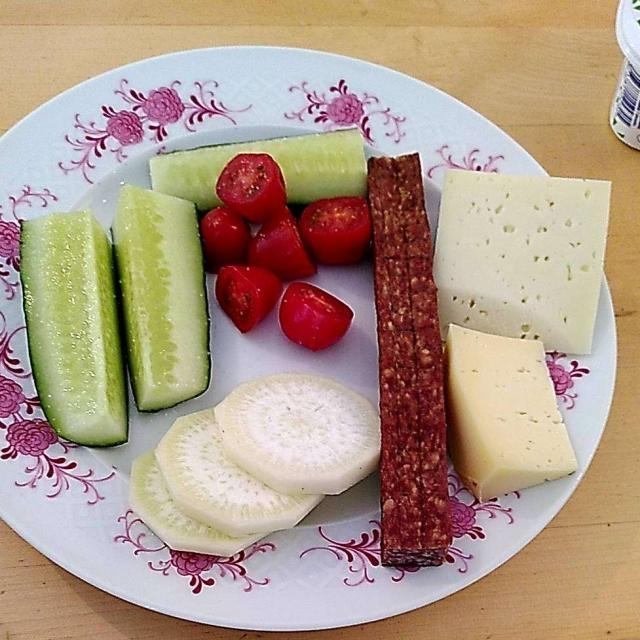cheese: (437, 168, 622, 493)
cucumber: (17, 125, 361, 450)
kolhrabi: (128, 365, 368, 554)
tomato: (205, 165, 377, 351)
